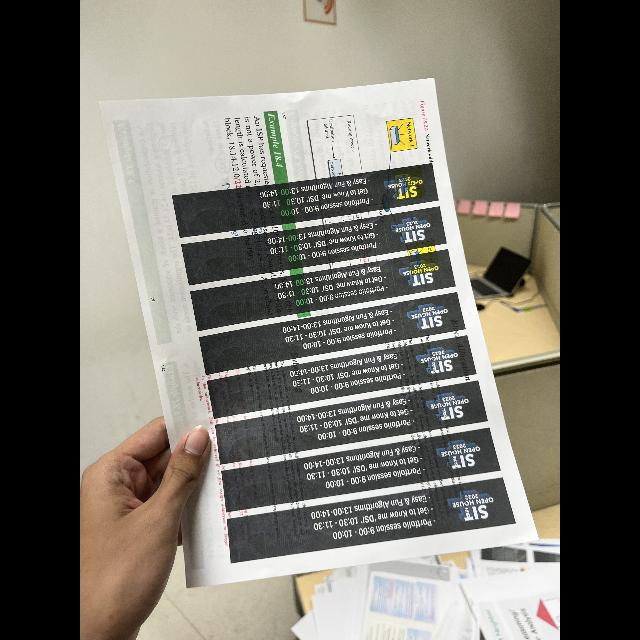reuseable_paper: (90, 97, 528, 589), (310, 530, 560, 640)
